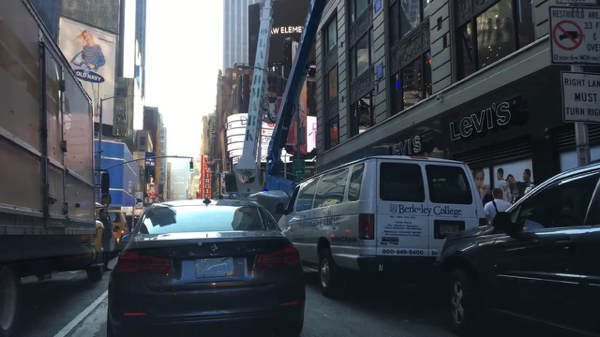car: (277, 155, 482, 296), (106, 197, 306, 336), (431, 164, 587, 335), (105, 209, 128, 257)
person: (481, 191, 514, 228), (97, 209, 113, 272), (482, 192, 492, 208), (510, 196, 521, 205)
traffic light: (189, 161, 194, 171)
traffic sign: (549, 6, 598, 66), (557, 71, 597, 123), (292, 157, 305, 176), (554, 1, 596, 4)
truck: (0, 0, 95, 332)
